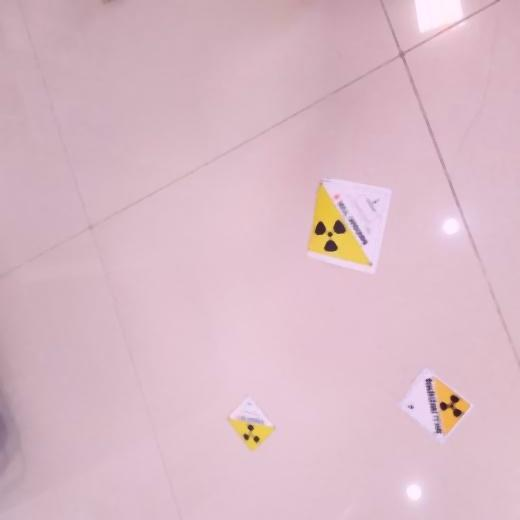radioactive: (307, 180, 387, 268), (400, 372, 471, 441), (226, 392, 275, 452)
